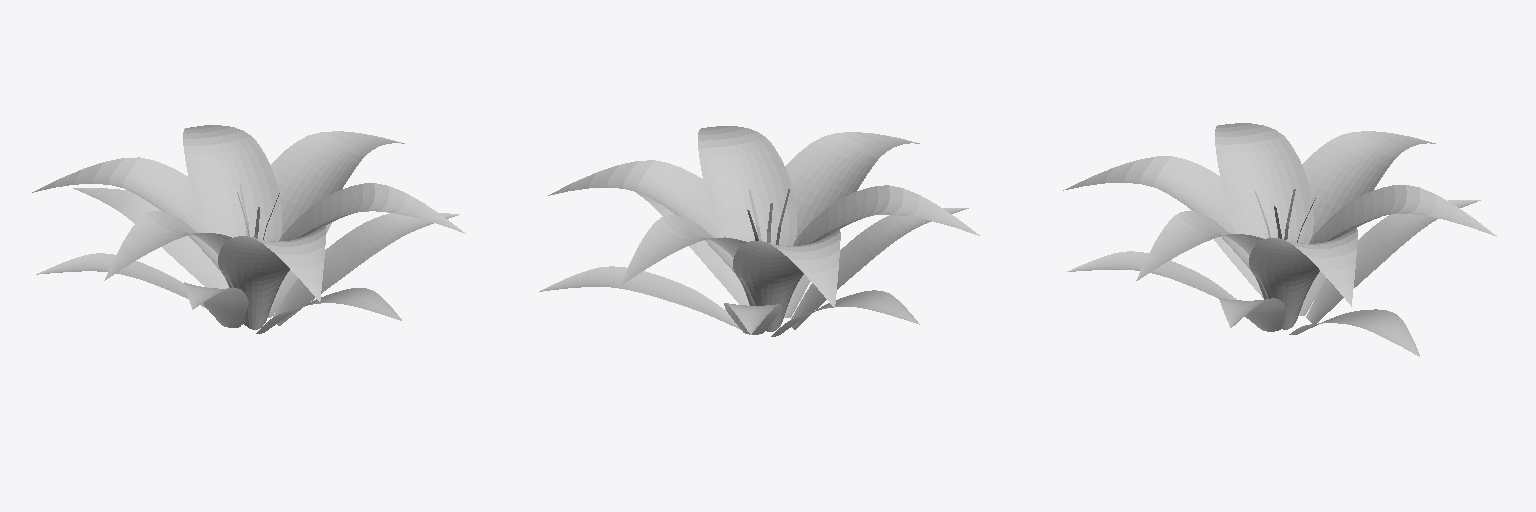
File: Lily_flower.obj
The picture shows the model from 3 angles: view 1: azimuth 30°, elevation 25°; view 2: azimuth 150°, elevation 25°; view 3: azimuth 270°, elevation 25°; orthographic projection.
Parts seen in each view (by area): view 1: Lily_red; view 2: Lily_red; view 3: Lily_red.
Boxes of the visible parts, x1=… form: Lily_red: x1=32, y1=125, x2=465, y2=333; Lily_red: x1=539, y1=126, x2=979, y2=336; Lily_red: x1=1063, y1=123, x2=1496, y2=356.
Size of the model in its own units: 2.93 by 1.08 by 2.96.